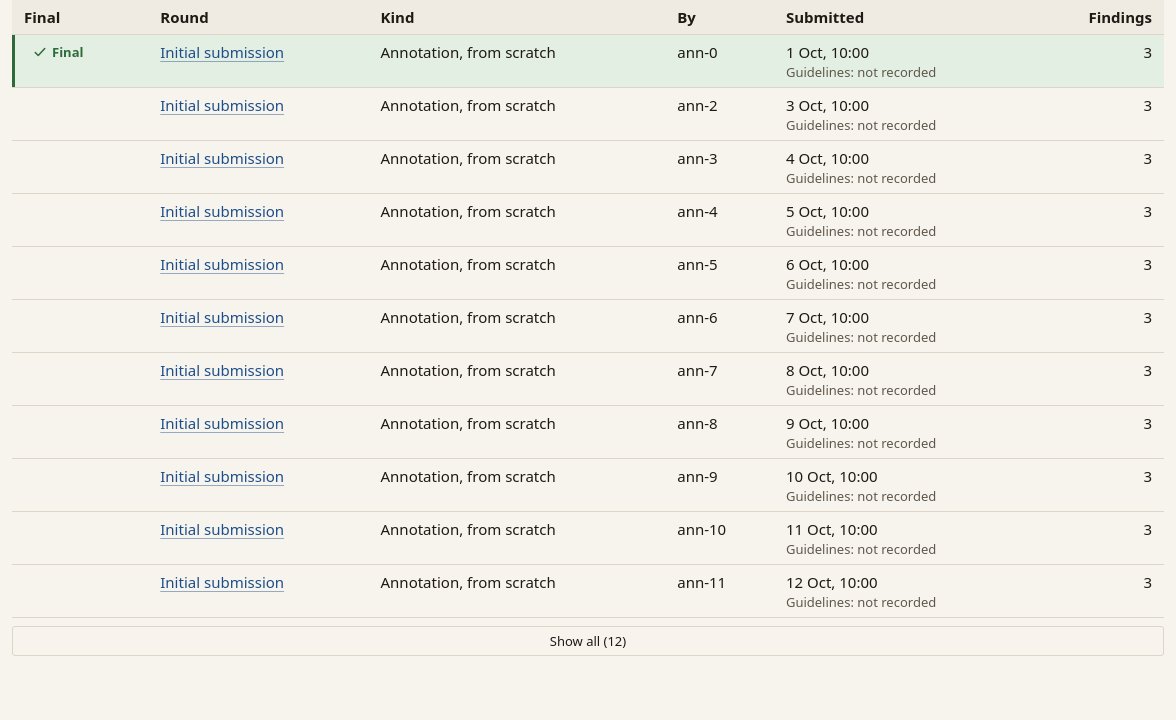
it: collapses more than 10 rows to the newest 10 and keeps the Final row
This screenshot has width=1176, height=720.
Expected: the text "Final" is shown, 24,41 -> 92,63
Click the button "Show all (12)" at (588, 641), box 12,626 -> 1164,656
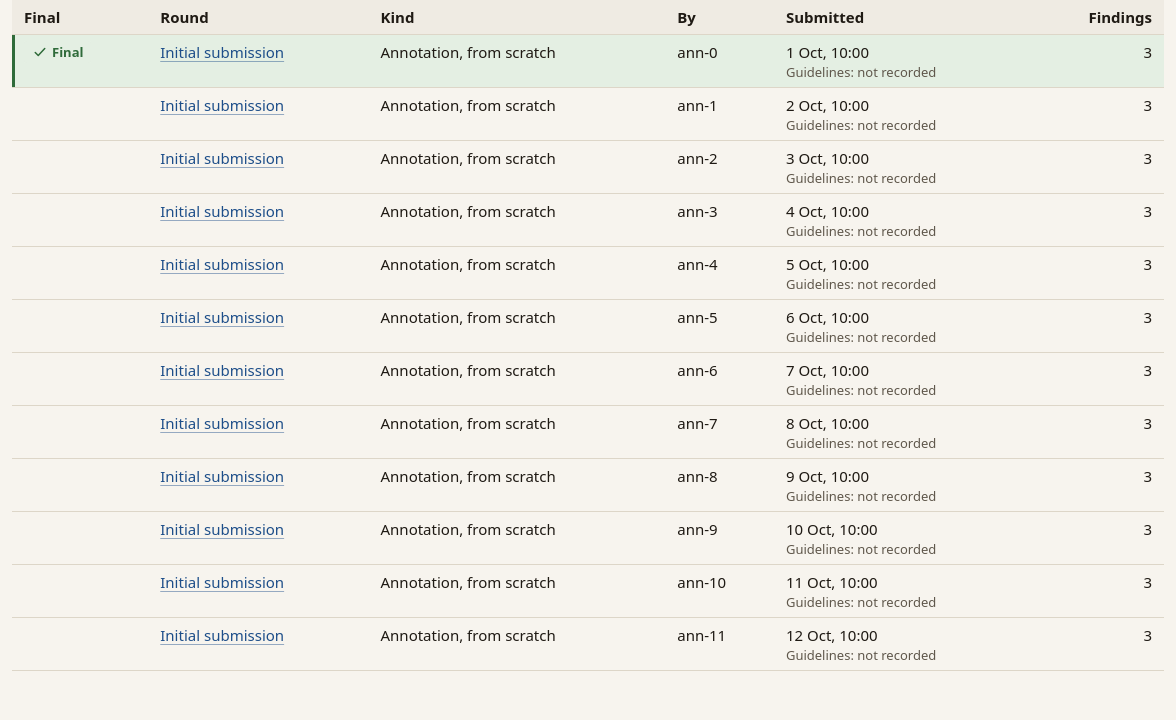
Expected: the button "Show all" is gone
